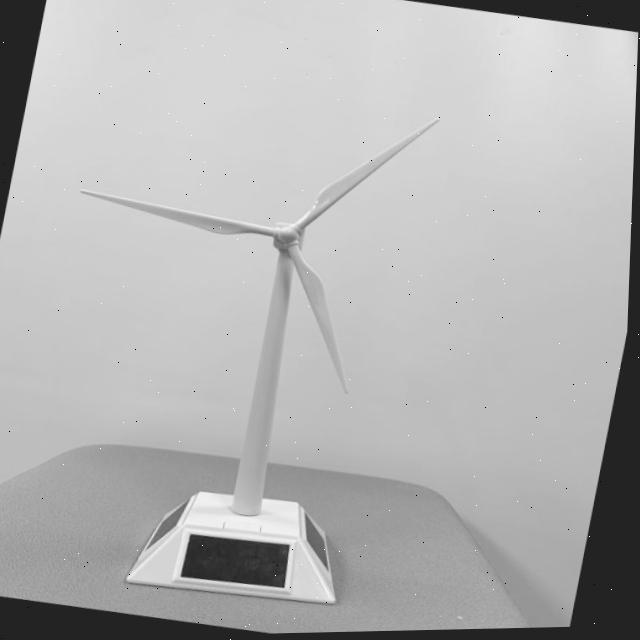solid-blade: (296, 120, 440, 232), (83, 191, 277, 238), (290, 247, 351, 394)
